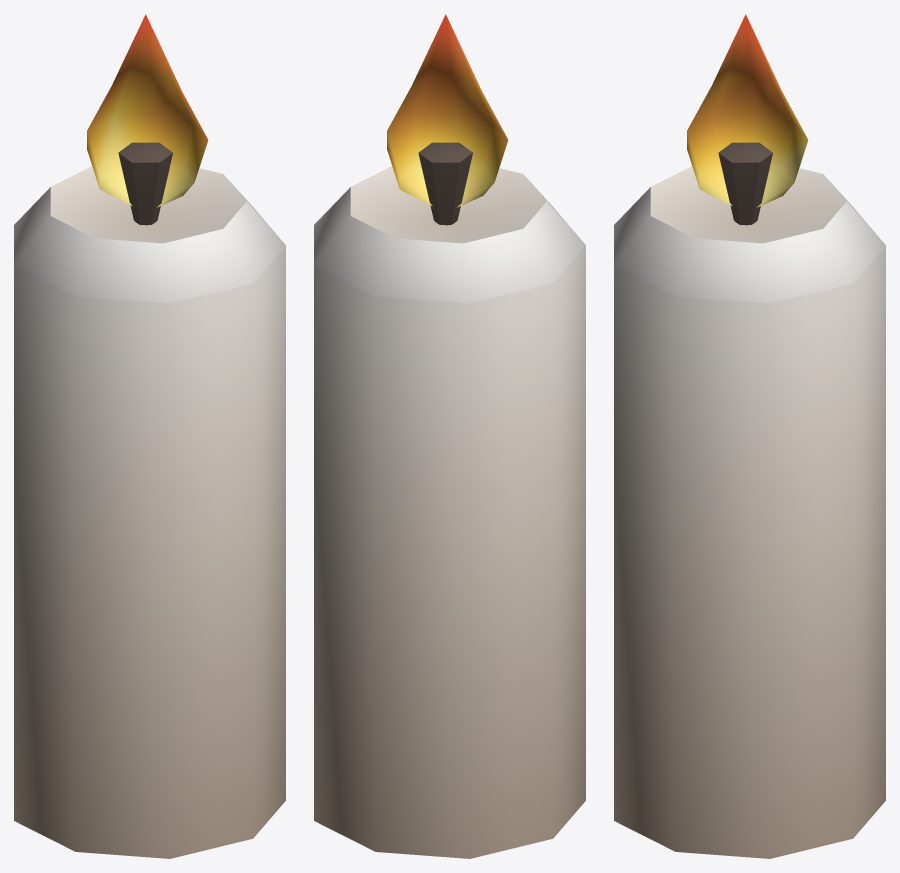
Rendered from prop_candle.glb.
3 views of the same model, side by side, from view 1: azimuth 30°, elevation 25°; view 2: azimuth 150°, elevation 25°; view 3: azimuth 270°, elevation 25° (orthographic).
Visible parts, largest first — view 1: candle_lit; view 2: candle_lit; view 3: candle_lit.
Boxes of the visible parts, bbox=[...] form: candle_lit: bbox=[14, 14, 285, 858]; candle_lit: bbox=[314, 14, 585, 858]; candle_lit: bbox=[614, 14, 885, 858].
Bounding box in the file's own units: 0.3344 × 1.05 × 0.3293.
1 material, 1 textured.
